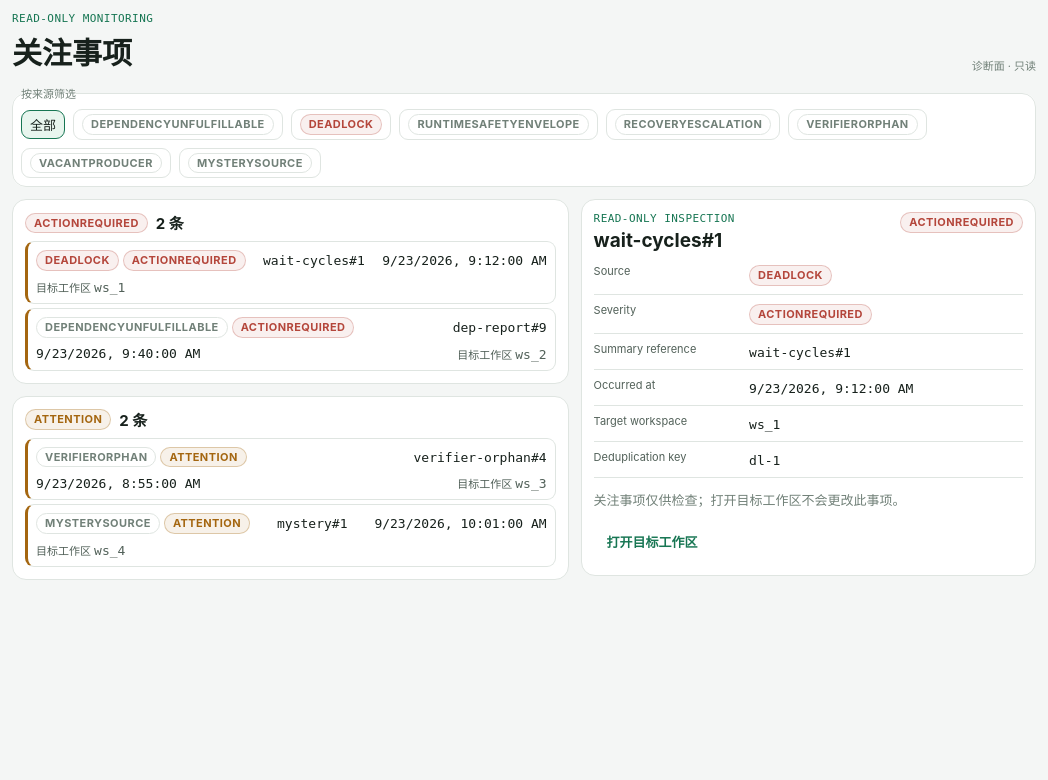
Test: W-06 关注事项页（只读） › source 筛选：单选 chip → 仅该源行；全部恢复；未知 source 原样行 + muted option
This screenshot has width=1048, height=780.
Expected: the text "mystery#1" is shown, x1=277 y1=516 x2=348 y2=531
Click the button "Deadlock".
click(341, 124)  # box x1=291 y1=109 x2=391 y2=140
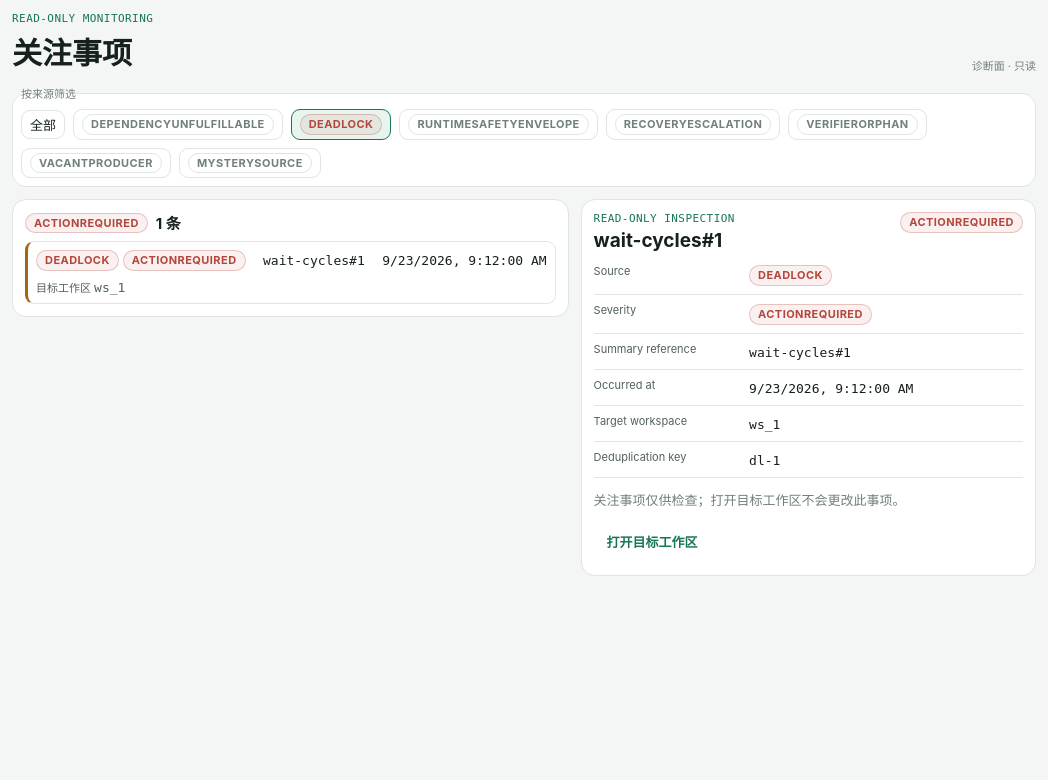
Result: the button "dep-report#9" is gone
Result: the button "verifier-orphan#4" is gone
Result: the button "mystery#1" is gone
Click the button "全部".
click(43, 124)  # box x1=21 y1=110 x2=65 y2=139
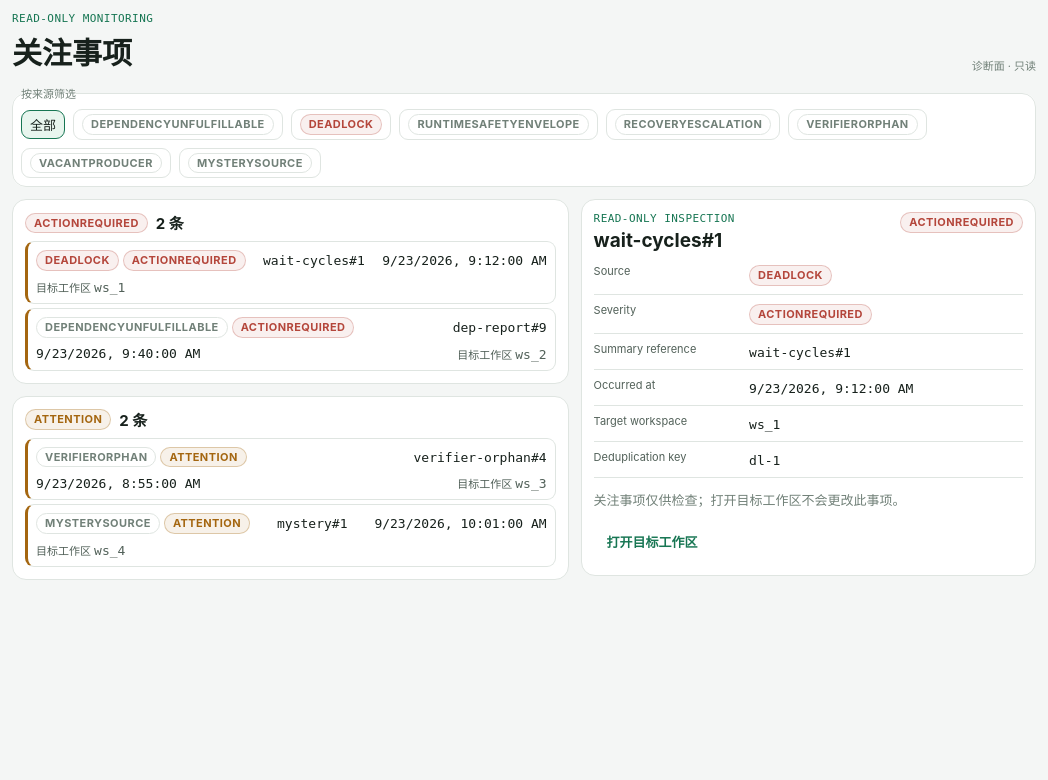
Result: the text "dep-report#9" is shown at x1=453 y1=320 x2=547 y2=335
Result: the text "verifier-orphan#4" is shown at x1=414 y1=450 x2=547 y2=465
Result: the text "mystery#1" is shown at x1=277 y1=516 x2=348 y2=531
